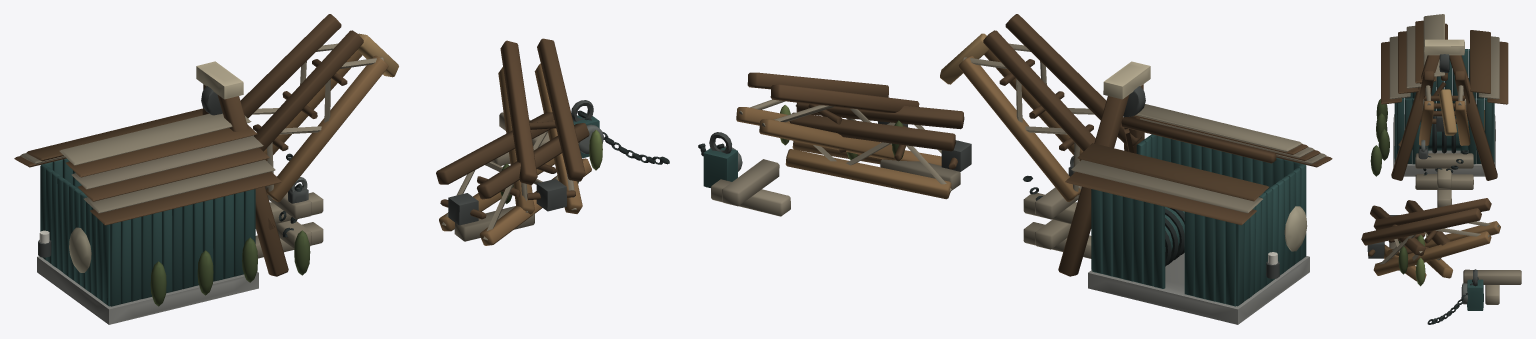
The model's file is boom_crane_wreck_c_lod1.glb.
The picture shows the model from 3 angles, left to right: view 1: azimuth 30°, elevation 25°; view 2: azimuth 150°, elevation 25°; view 3: azimuth 270°, elevation 25°; orthographic projection. The views are drawn at different scales.
Parts seen in each view (by area): view 1: Surface.001; view 2: Surface.001; view 3: Surface.001.
Part boxes in pixels (x1,y1,x2,y2): Surface.001: [14, 14, 669, 324]; Surface.001: [698, 14, 1332, 324]; Surface.001: [1361, 14, 1521, 324].
Size of the model in its own units: 14.32 by 4.77 by 4.69.
